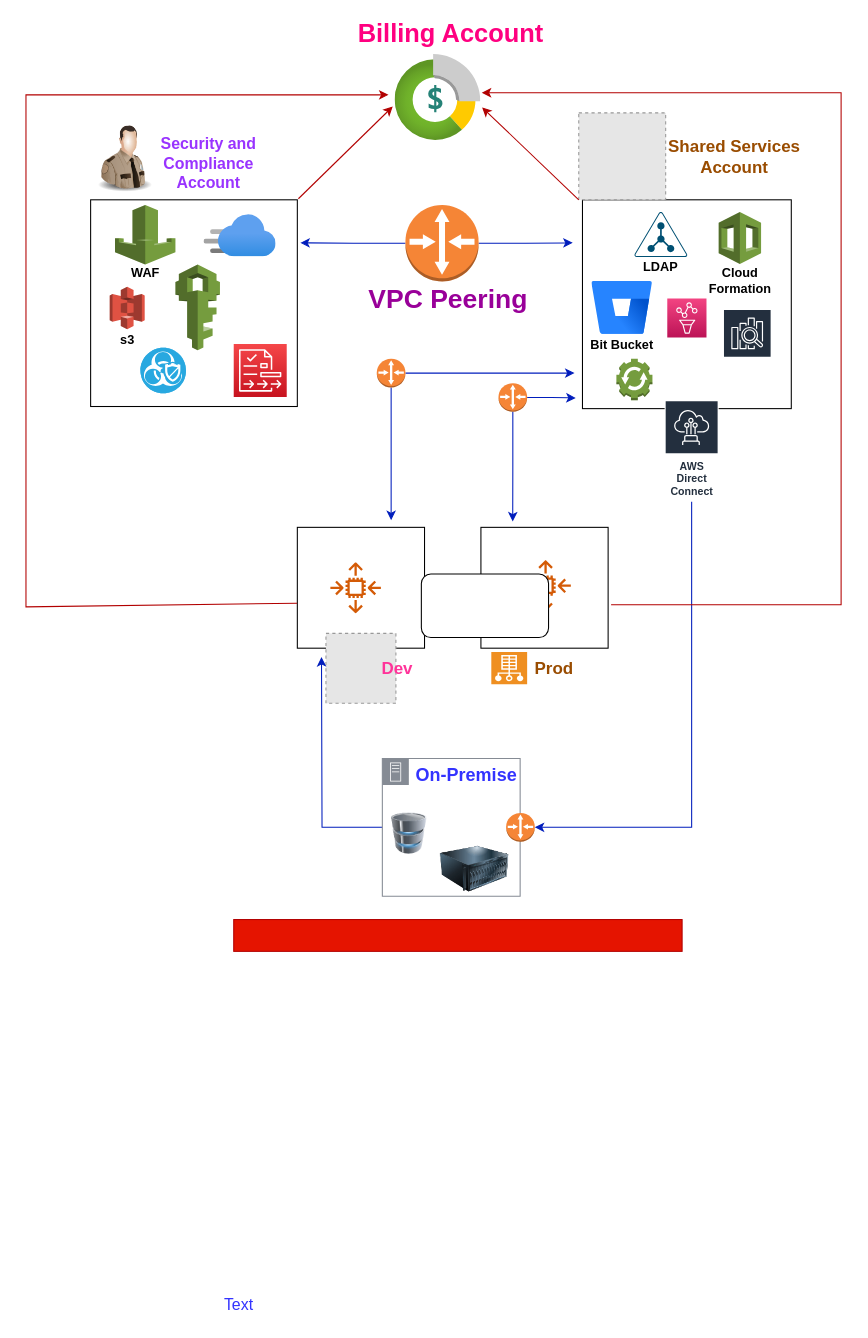
This 868x1338 diagram has some shape labels left out. Grey dashed boxes stand in for pictures. Each missing label, with the centre of its shape:
Amazon Elasticsearch Service: the point at 747,355
AWS Multi Account Architecture: the point at 457,934
